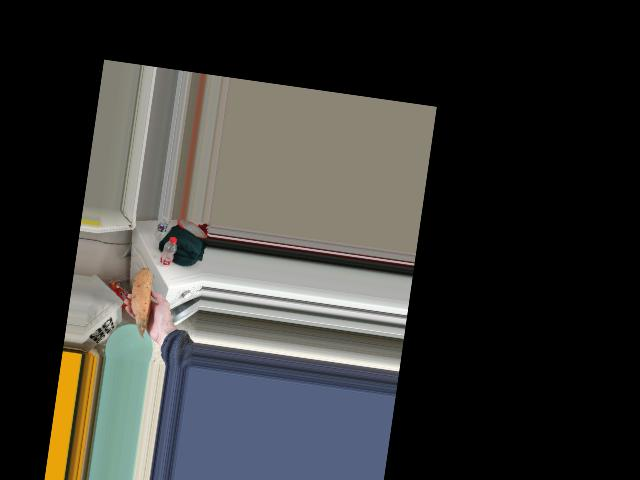sweet_potato: (130, 272, 156, 334)
